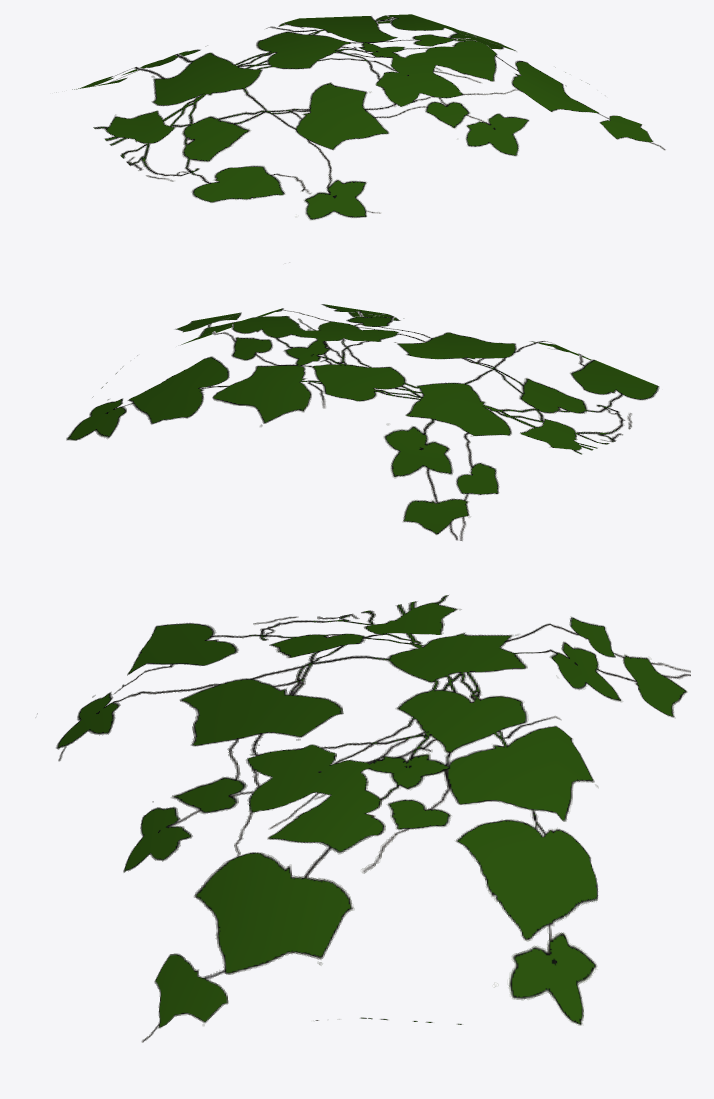
Rendered from ivy.obj.
3 views of the same model, one above another, from view 1: azimuth 30°, elevation 25°; view 2: azimuth 150°, elevation 25°; view 3: azimuth 270°, elevation 25° (orthographic). The views are drawn at different scales.
Parts seen in each view (by area): view 1: ivy_ivy_branch; view 2: ivy_ivy_branch; view 3: ivy_ivy_branch.
Part boxes in pixels (box(x1,y1,x2,y2)): ivy_ivy_branch: box(56, 14, 666, 264); ivy_ivy_branch: box(66, 304, 659, 541); ivy_ivy_branch: box(35, 594, 690, 1042).
Bounding box in the file's own units: 29.65 × 6.87 × 24.02.
Materials: 1 (1 with a texture image).
